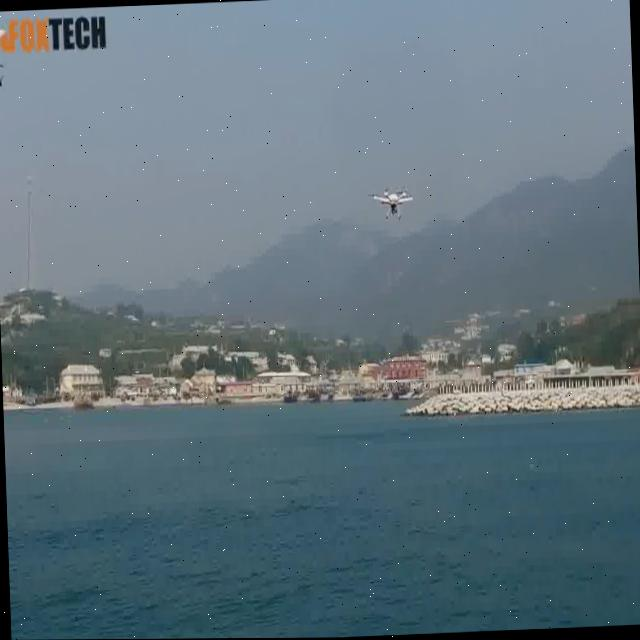drone: (362, 171, 418, 231)
